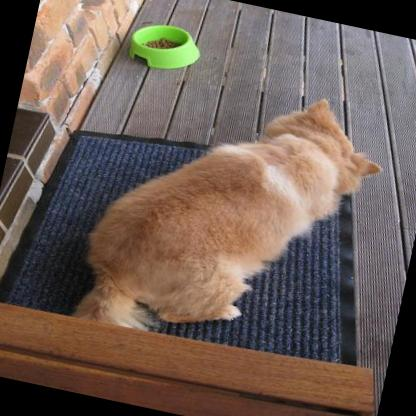Pomeranian: (72, 55, 392, 368)
